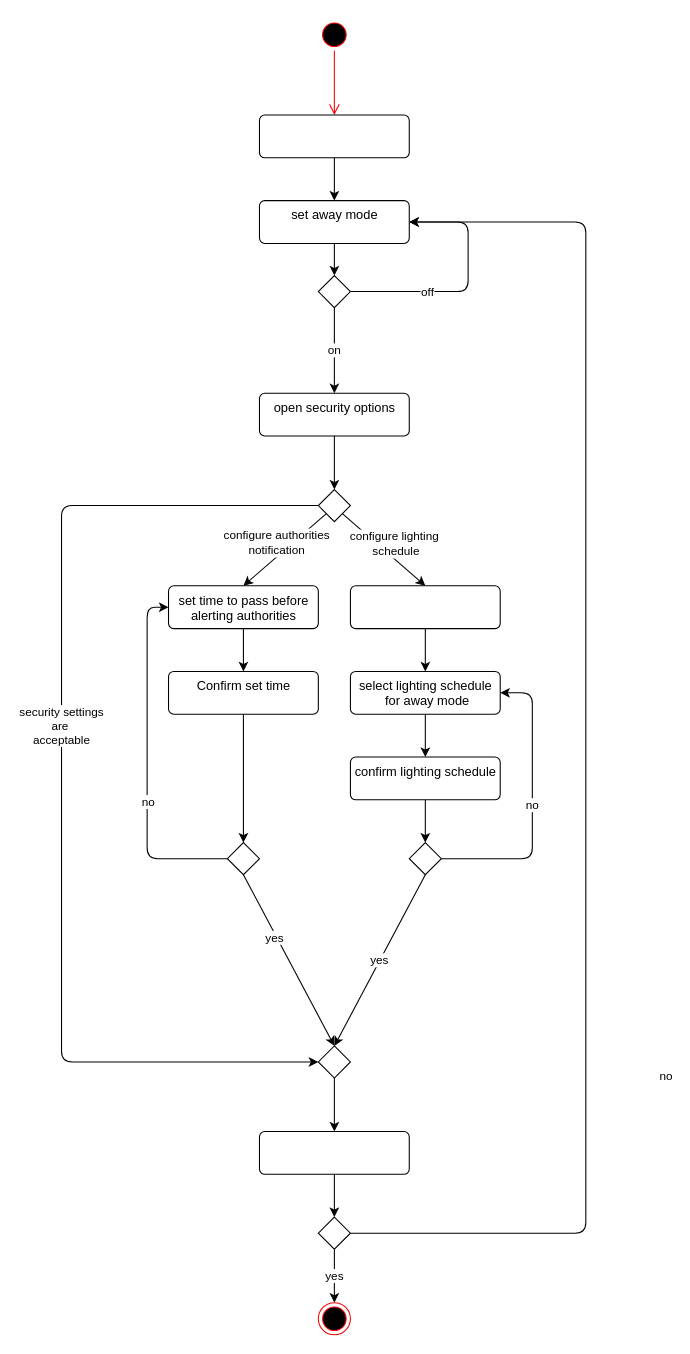
Image size: 690x1354. Some labels were removed from this diagram. The shapes that lost their labels are listed below. From the top down, each one's centre as x and y in pixels, then its label:
point 333,136: open SHP Pane
point 424,607: open light control panel
point 333,1152: close SHP pane
